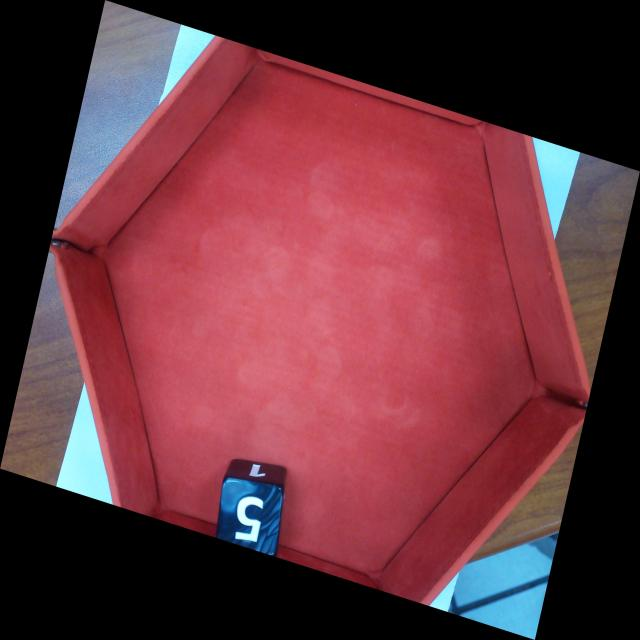dice: (215, 476, 284, 559)
